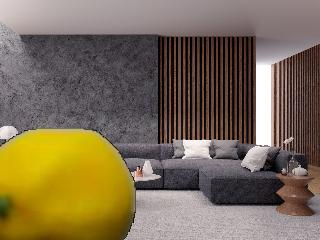lemon: (0, 128, 137, 240)
